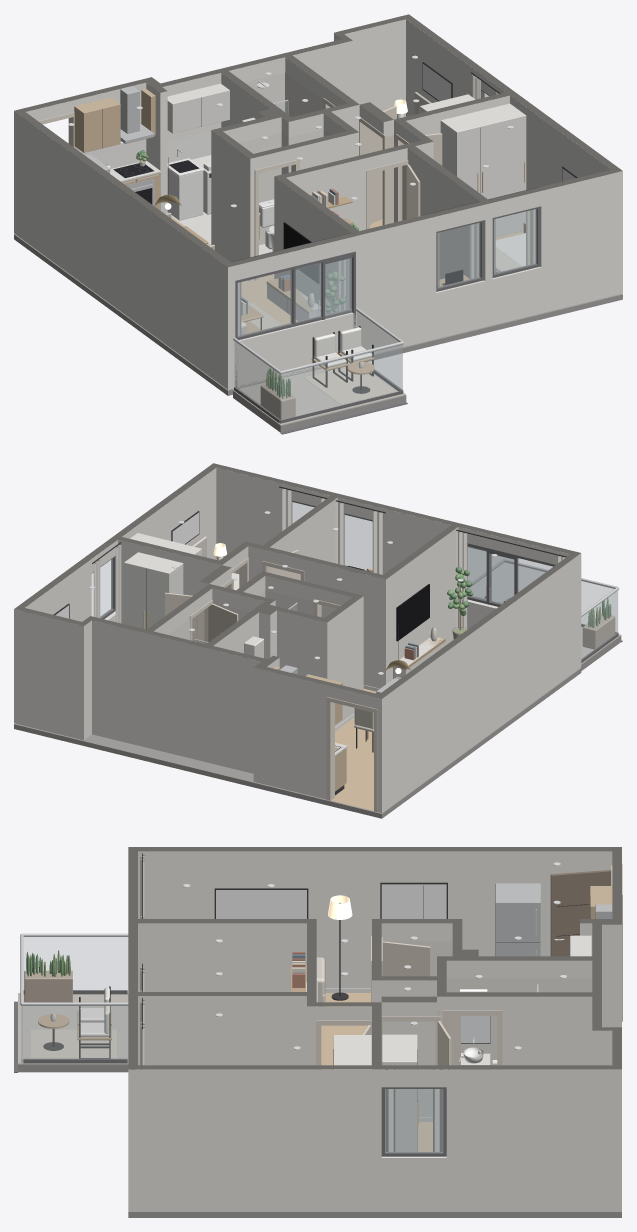
The model's file is apto-104.glb.
The picture shows the model from 3 angles, top to bottom: view 1: azimuth 30°, elevation 25°; view 2: azimuth 150°, elevation 25°; view 3: azimuth 270°, elevation 25°; orthographic projection. The views are drawn at different scales.
Parts seen in each view (by area): view 1: ARQ_Muros, ARQ_Dinteles_Antepechos, PROP_Balcon_baranda, MOB_Alcoba_3, ILU_Ventana_sala, ILU_Ventaneria, ILU_Revestimientos, MOB_Balcon, MOB_Ropas, MOB_Cocina, ILU_Antepecho_sala, PROP_Puerta_ventana_sala (+13 smaller); view 2: ARQ_Muros, ARQ_Dinteles_Antepechos, ARQ_Losa, MOB_Alcoba_principal, PROP_Balcon_baranda, MOB_Sala, ILU_Ventana_sala, ILU_Marcos_puertas, ILU_Ventaneria, PROP_Puerta_ventana_sala, ARQ_Piso_social, MOB_Alcoba_3 (+9 smaller); view 3: ARQ_Muros, PROP_Balcon_baranda, ARQ_Dinteles_Antepechos, MOB_Balcon, ILU_Ventaneria, PROP_Balcon_losa, MOB_Cocina, MOB_Alcoba_principal, MOB_Sala, ARQ_Losa, ILU_Revestimientos, ILU_Puerta_entrada (+10 smaller).
Part boxes in pixels (x1,y1,x2,y2): ARQ_Muros: (14,14,622,389); ARQ_Dinteles_Antepechos: (22,70,541,338); PROP_Balcon_baranda: (233,308,403,423); MOB_Alcoba_3: (440,103,577,273); ILU_Ventana_sala: (237,258,352,339); ILU_Ventaneria: (436,90,540,291); ILU_Revestimientos: (77,72,331,245); MOB_Balcon: (260,326,395,419); MOB_Ropas: (167,83,255,220); MOB_Cocina: (74,86,155,173); ILU_Antepecho_sala: (235,312,355,387); PROP_Puerta_ventana_sala: (235,251,355,386); ARQ_Muros: (14,463,581,812); ARQ_Dinteles_Antepechos: (85,482,573,708); ARQ_Losa: (14,668,581,818); MOB_Alcoba_principal: (53,542,183,629); PROP_Balcon_baranda: (468,559,619,662); MOB_Sala: (393,566,473,678); ILU_Ventana_sala: (458,546,552,609); ILU_Marcos_puertas: (189,557,377,812); ILU_Ventaneria: (91,500,372,620); PROP_Puerta_ventana_sala: (467,543,555,604); ARQ_Piso_social: (335,717,373,807); MOB_Alcoba_3: (130,486,327,590); ARQ_Muros: (128,847,621,1210); PROP_Balcon_baranda: (20,933,128,1063); ARQ_Dinteles_Antepechos: (128,851,621,1210); MOB_Balcon: (24,950,116,1058); ILU_Ventaneria: (131,1069,446,1156); PROP_Balcon_losa: (14,993,128,1072); MOB_Cocina: (495,883,612,956); MOB_Alcoba_principal: (382,1034,449,1151); MOB_Sala: (214,888,352,1000); ARQ_Losa: (128,1211,621,1217); ILU_Revestimientos: (382,941,592,1069); ILU_Puerta_entrada: (550,870,611,956).
Size of the model in its own units: 8.1 by 2.59 by 9.37.
